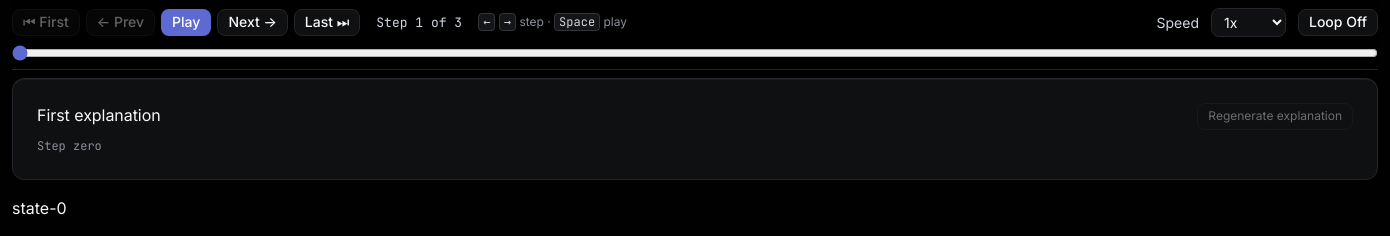
Test: StepPlayer › goes back with Prev and disables Next on the last step
Step 1. Click the button "Next →" → (253, 22), box [217, 9, 288, 36]
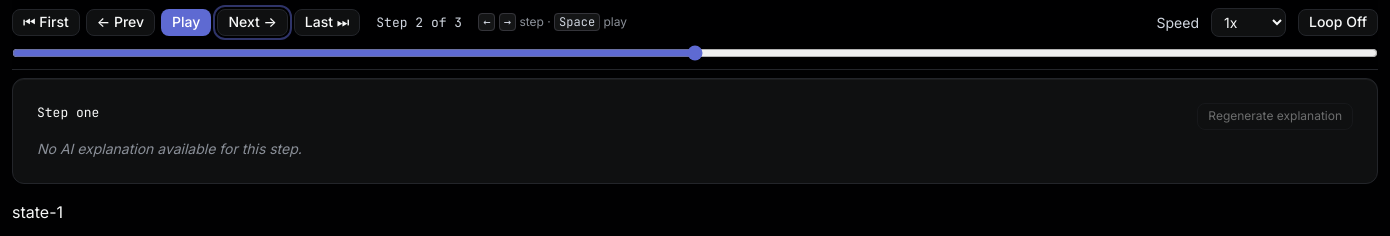
Step 2. Click the button "Next →" → (253, 22), box [217, 9, 288, 36]
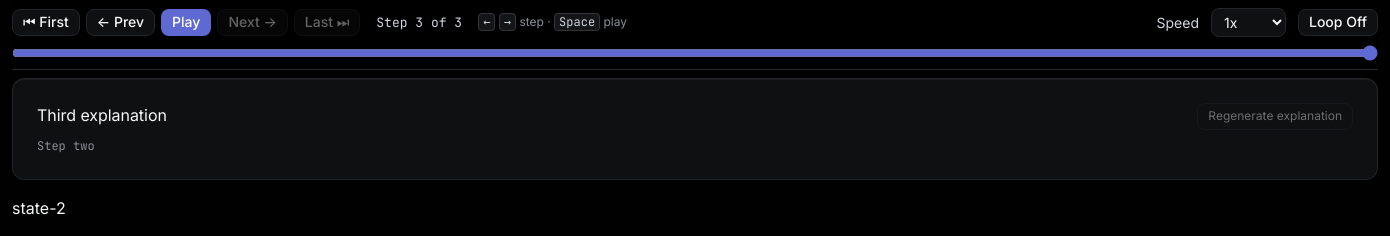
Check: the text "Step 3 of 3" is shown, box [376, 13, 462, 32]
Check: the button "Next →" is disabled, box [217, 9, 288, 36]
Step 3. Click the button "← Prev" → (120, 22), box [86, 9, 155, 36]
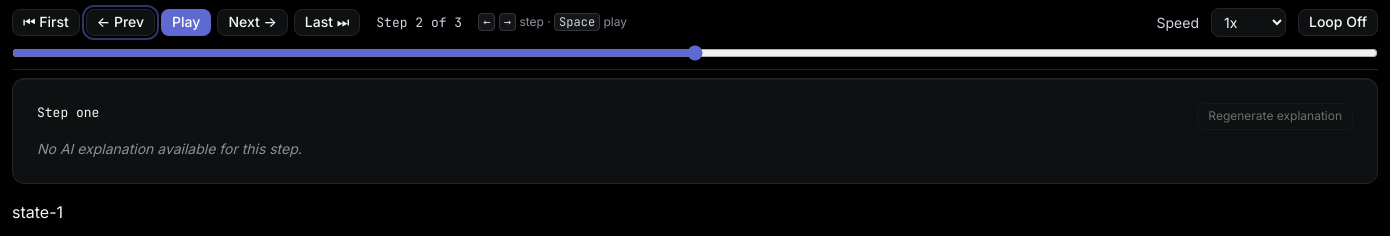
Check: the text "Step 2 of 3" is shown, box [376, 13, 462, 32]
